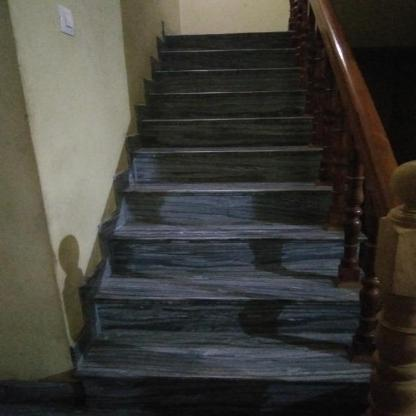stair: (97, 18, 373, 414)
